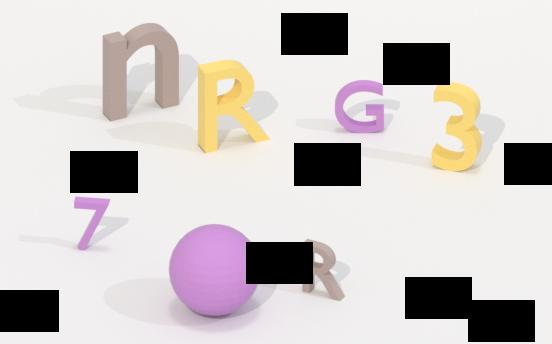7: (68, 193, 115, 254)
G-hoa: (329, 79, 392, 135)
R-hoa: (194, 57, 272, 162), (297, 235, 352, 307)
cau: (166, 223, 261, 319)
e: (424, 80, 484, 176)
n: (101, 21, 181, 124)
